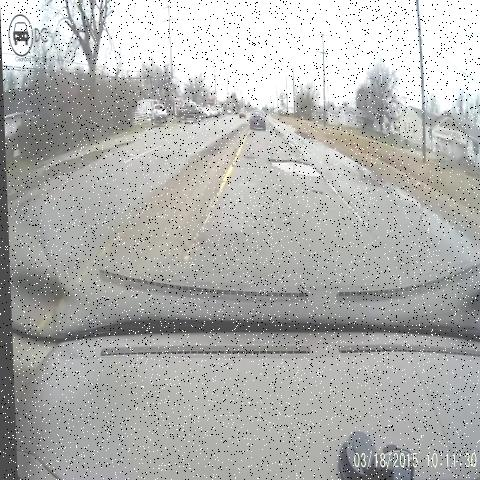pothole: (266, 144, 323, 191), (222, 136, 248, 175), (236, 147, 262, 173), (305, 184, 330, 201)
